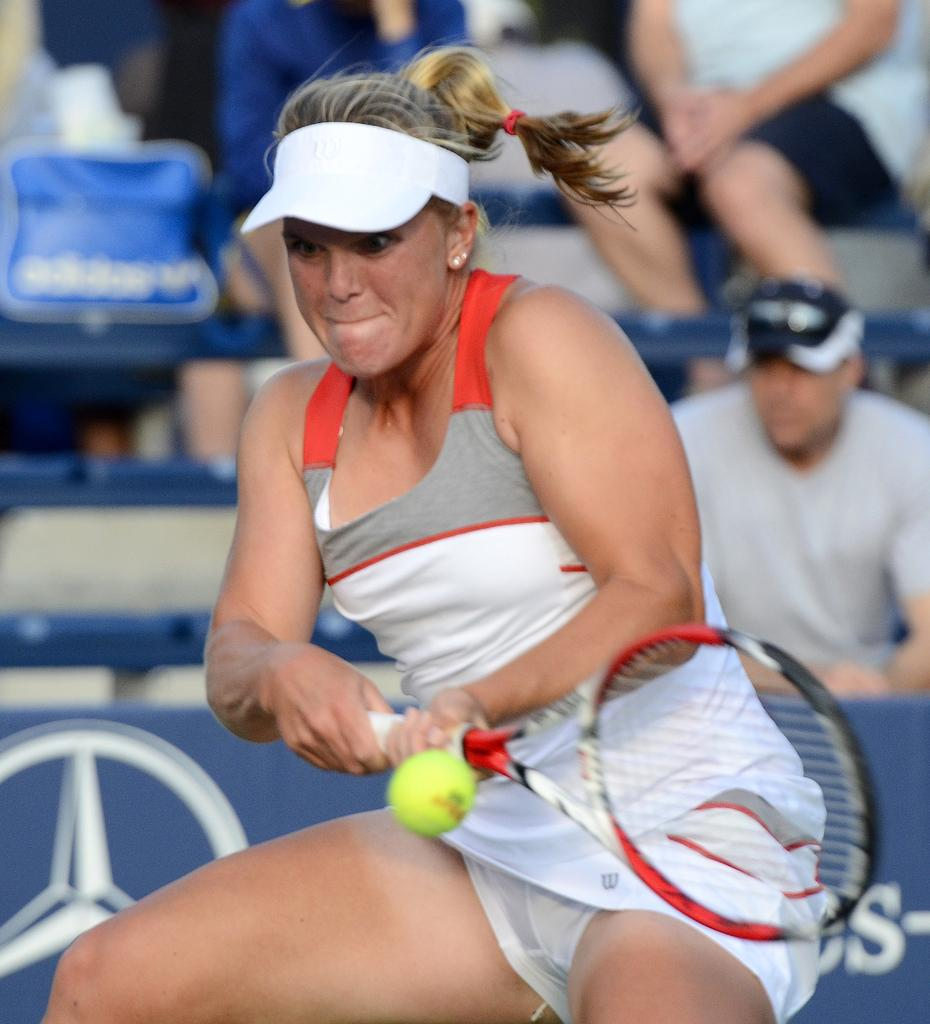Hat: (726, 272, 874, 370)
